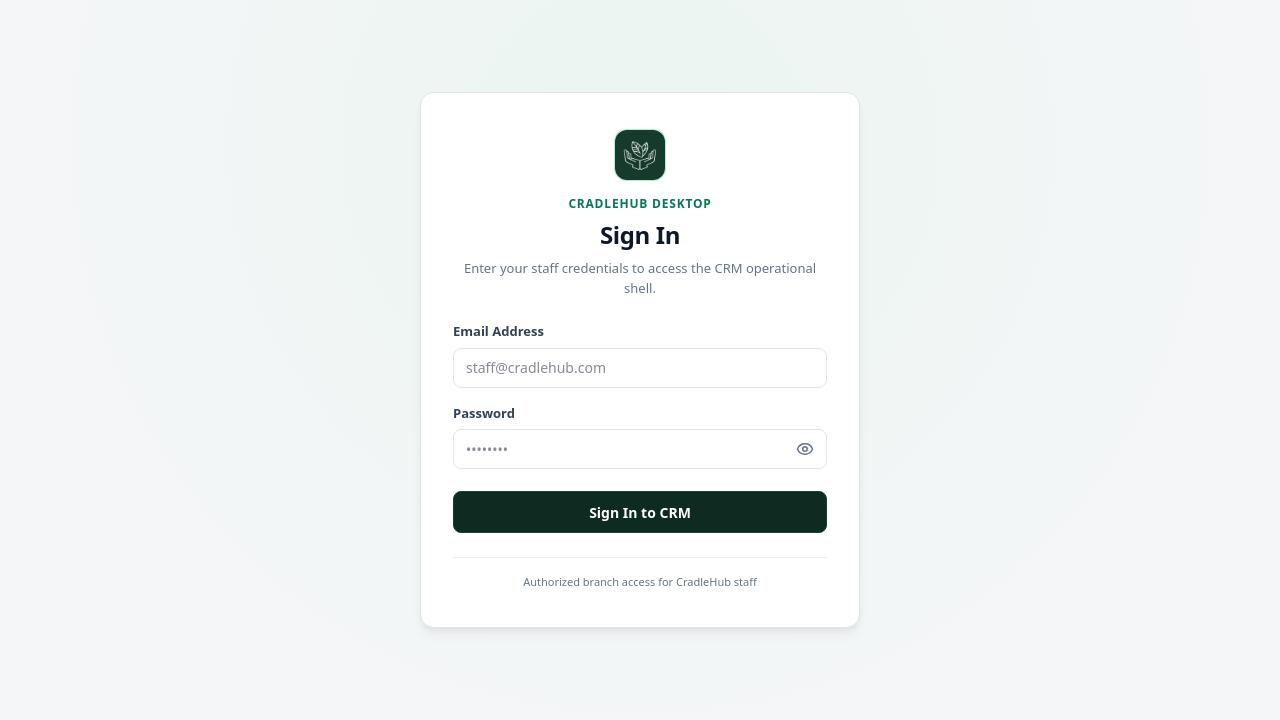
Stage 01 UI Components › App integration flows › displays ContextLoadError truthfully on LoginView when context loading fails
The image size is (1280, 720).
Type "error@example.com" into the field with test id "email-input" at (640, 368), box [453, 348, 827, 388]
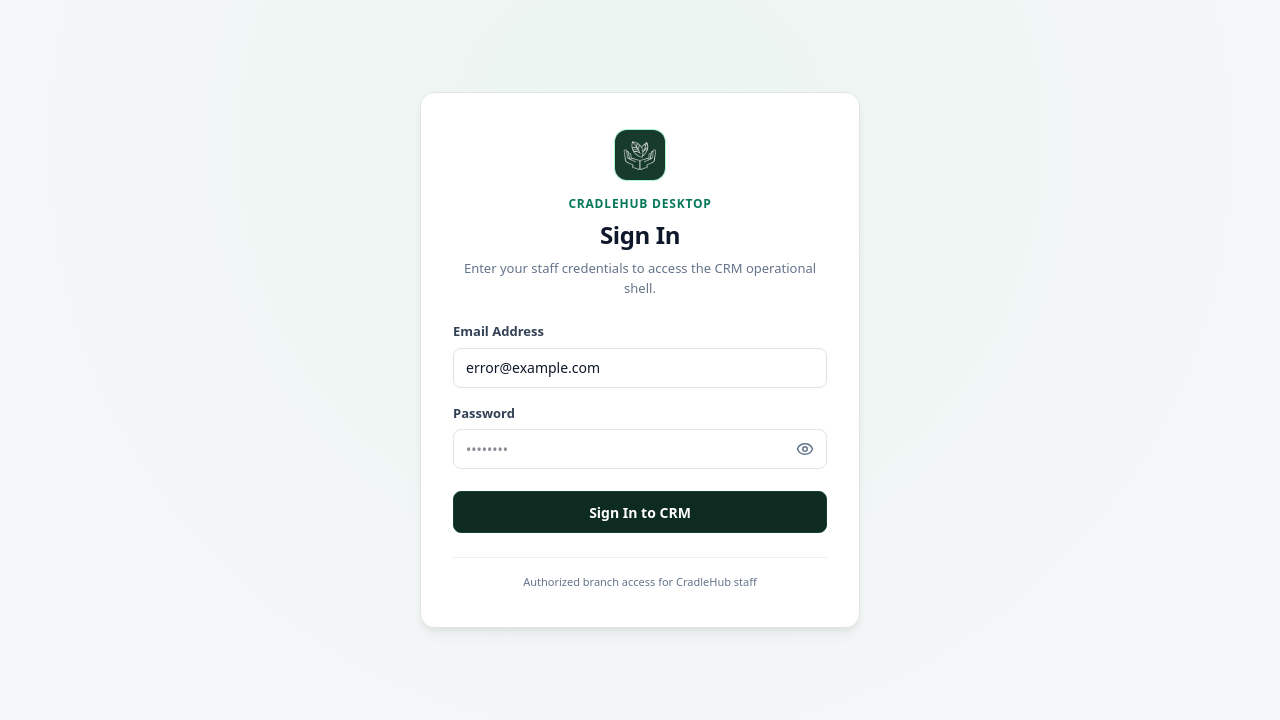
Type "password123" into the password field with test id "password-input" at (640, 449), box [453, 429, 827, 469]
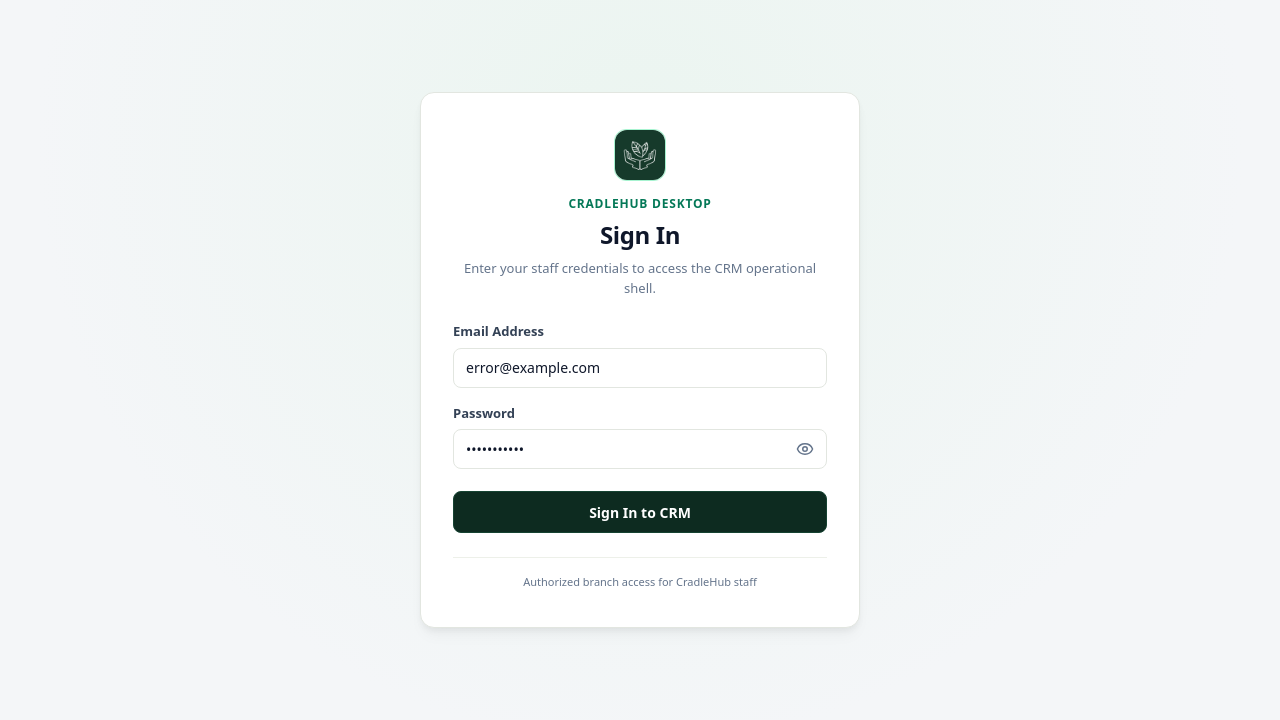
Click the button with test id "submit-button" at (640, 512), box [453, 491, 827, 533]
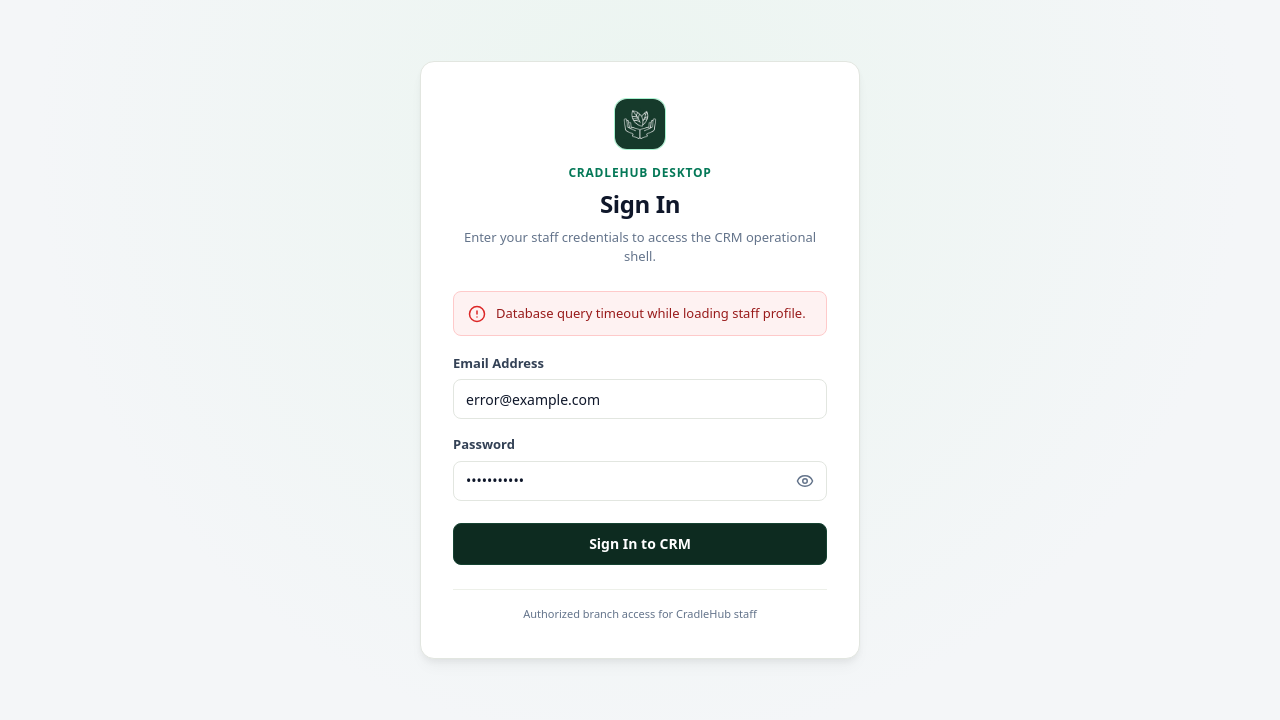
expect the message "Database query timeout while loading staff profile." is shown: met, box [453, 291, 827, 336]
expect the message reads "Database query timeout while loading staff profile.": met, box [496, 304, 806, 322]
